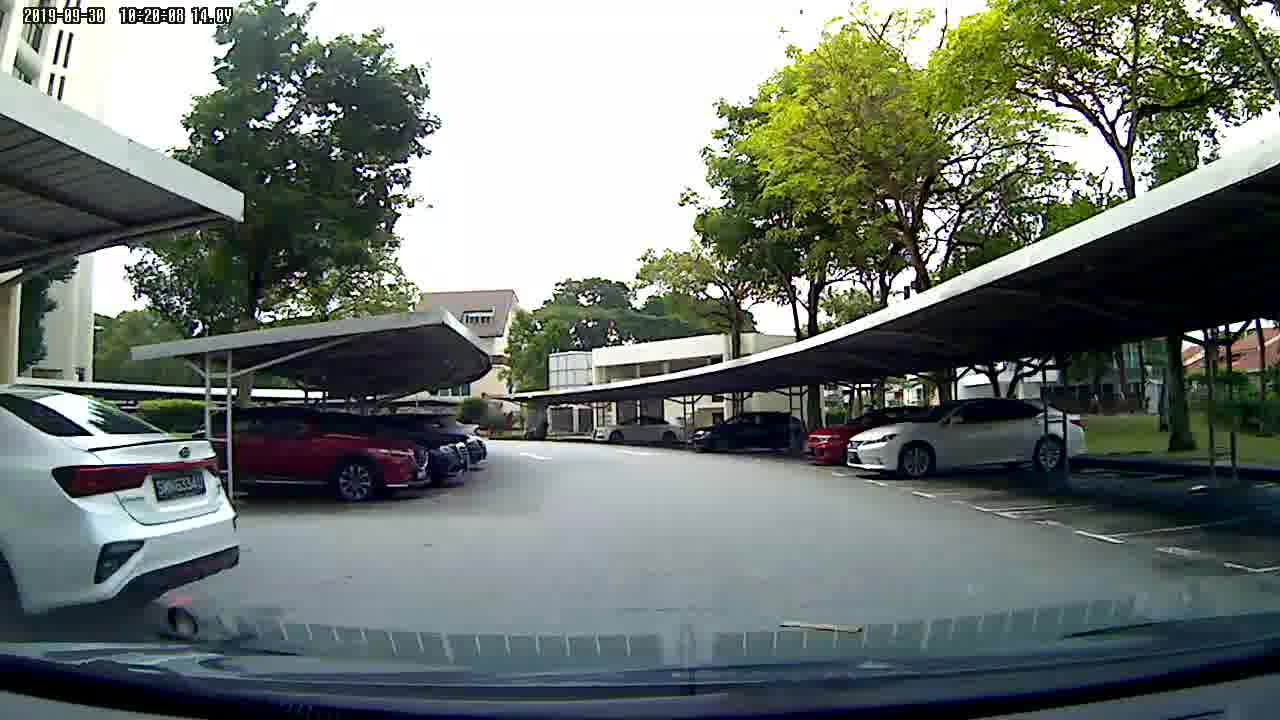car: (1, 371, 246, 636), (233, 385, 498, 512), (855, 394, 1087, 483), (686, 408, 807, 456), (586, 412, 689, 449)
